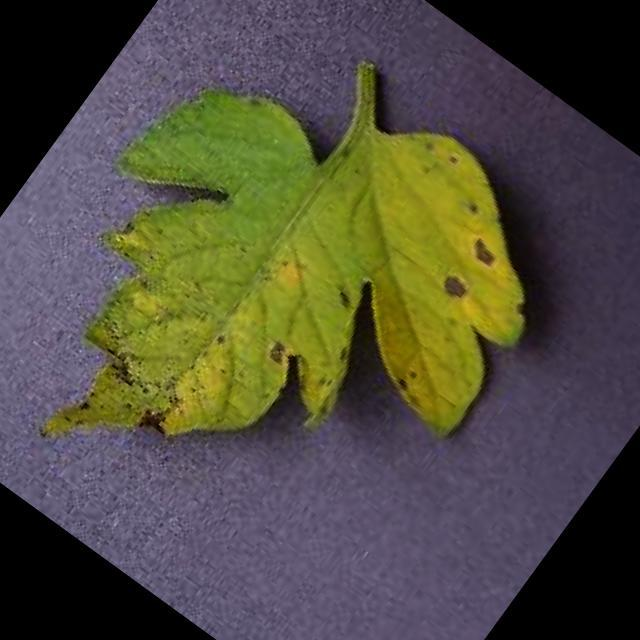Tomato Septoria spot leaf: (0, 0, 599, 631)
